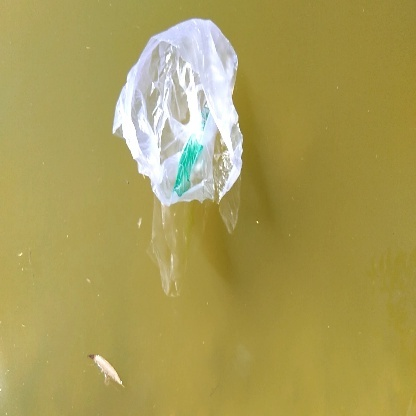plastic-bag: (107, 17, 248, 205)
